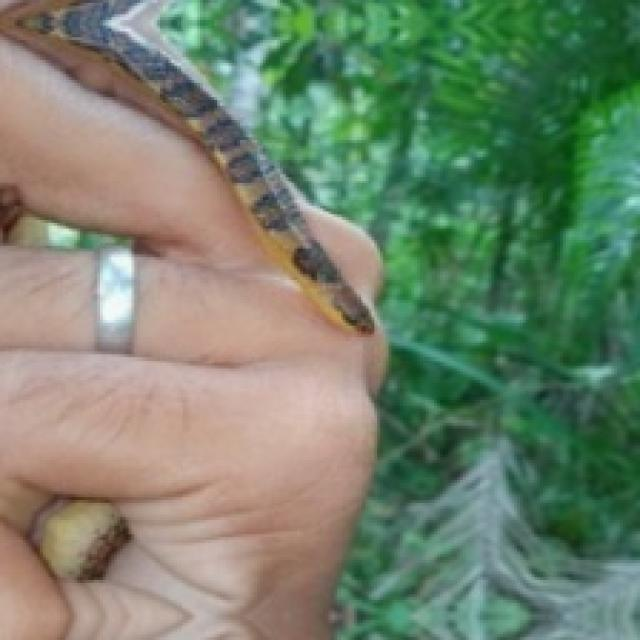luzon dwarf snake: (0, 0, 383, 631)
